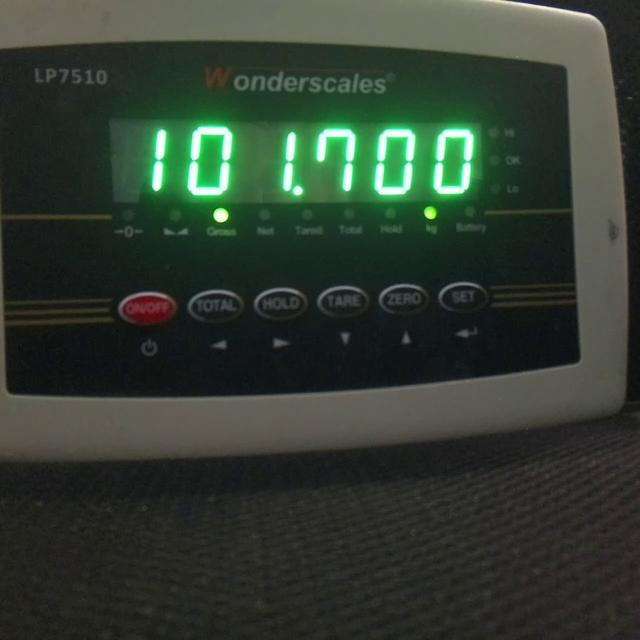.: (292, 185, 304, 196)
0: (429, 126, 477, 197), (188, 125, 234, 194), (374, 128, 416, 194)
1: (151, 128, 167, 192), (282, 131, 296, 193)
7: (315, 128, 356, 192)
